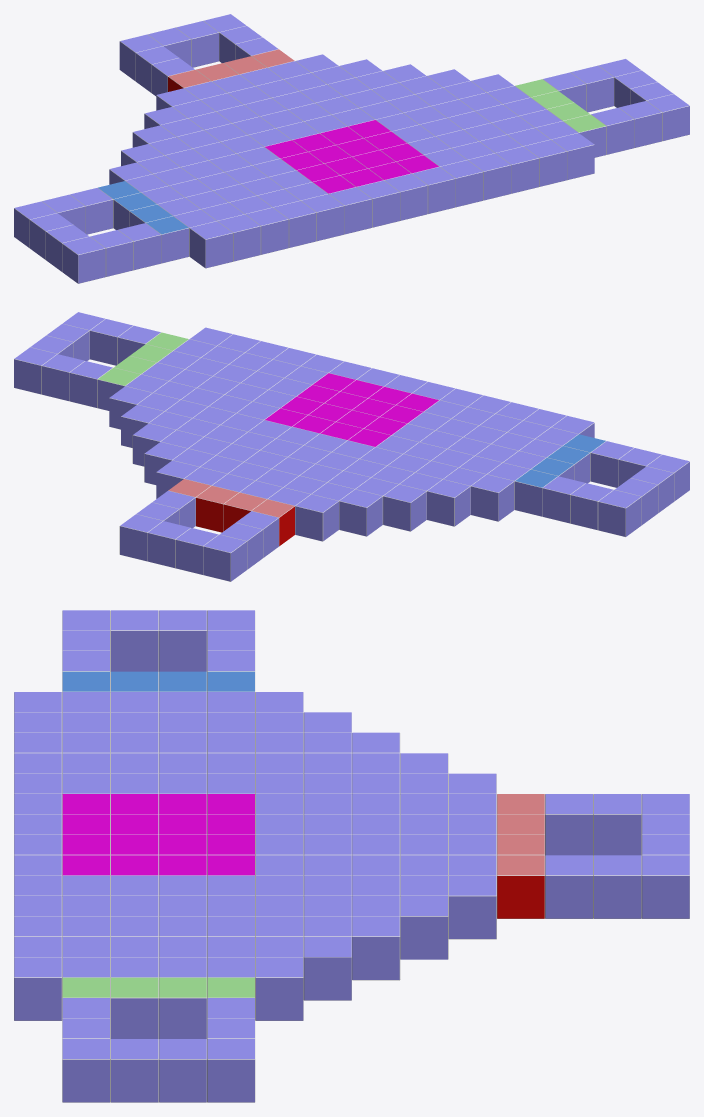
The model's file is 1vs1vs1 Map.fbx.
3 renders of one model, top to bottom at view 1: azimuth 30°, elevation 25°; view 2: azimuth 150°, elevation 25°; view 3: azimuth 270°, elevation 25°, orthographic. The views are drawn at different scales.
Parts seen in each view (by area): view 1: 1vs1vs1Map; view 2: 1vs1vs1Map; view 3: 1vs1vs1Map.
Boxes of the visible parts, box(x1,y1,x2,y2) form: 1vs1vs1Map: box(14, 14, 689, 283); 1vs1vs1Map: box(14, 312, 689, 581); 1vs1vs1Map: box(14, 610, 689, 1102).
Size of the model in its own units: 4400 by 200 by 2800.
